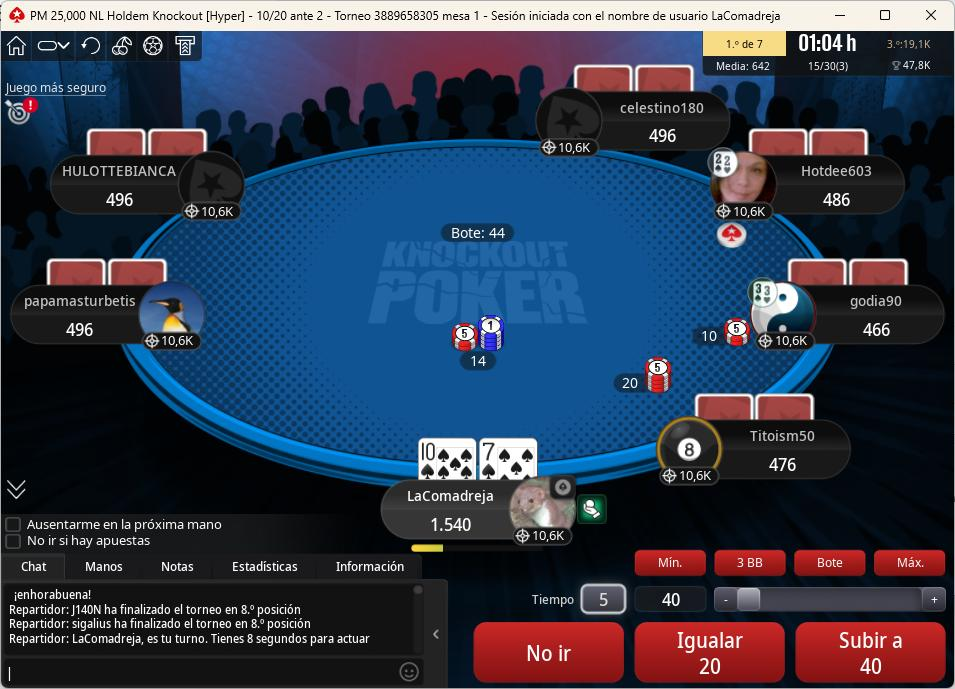ButtonCall: (629, 614, 784, 684)
ButtonFold: (472, 620, 630, 685)
ButtonMaxRaise: (874, 546, 949, 581)
ButtonMinRaise: (633, 547, 711, 580)
ButtonPotRaise: (792, 548, 867, 578)
ButtonRaise: (792, 618, 948, 684)
HiddenCards: (692, 393, 822, 423), (83, 132, 211, 160), (787, 258, 913, 286), (575, 67, 701, 95), (47, 258, 172, 286), (748, 131, 870, 159)
Player: (747, 284, 950, 352), (710, 150, 911, 218), (8, 283, 208, 350), (657, 421, 857, 488), (49, 151, 247, 217), (545, 90, 735, 158)
PlayerBet: (611, 353, 685, 399), (688, 318, 758, 351)
PlayerChips: (763, 455, 806, 476), (644, 128, 689, 148), (859, 322, 900, 342), (817, 191, 860, 210), (60, 323, 102, 342), (99, 192, 140, 211)
Pot: (438, 223, 517, 244)
PrincipalCards: (413, 438, 542, 484)
PrincipalCards1: (419, 435, 477, 482)
PrincipalCards2: (480, 437, 537, 481)
PrincipalPlayer: (385, 474, 587, 553)
PrincipalPlayerChips: (424, 516, 481, 536)
SmallBigBlind: (249, 1, 333, 26)
TablePot: (440, 312, 533, 380)
